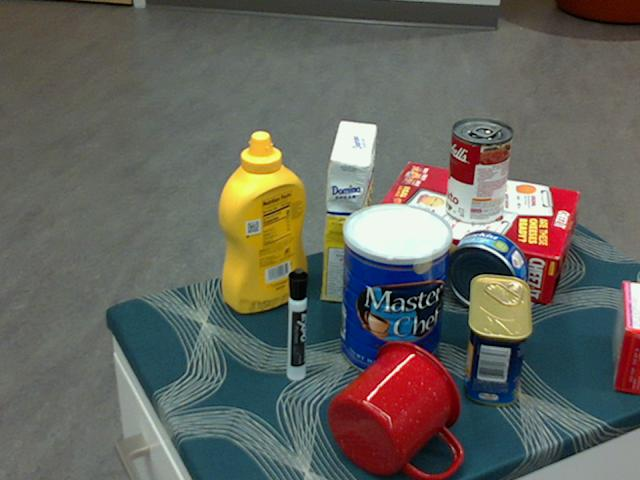cracker_box: (367, 164, 576, 301)
gelatin_box: (610, 282, 639, 395)
large_marker: (284, 267, 306, 382)
master_chef_can: (340, 203, 454, 380)
mug: (327, 340, 462, 479)
mustard_bottle: (217, 131, 307, 313)
potted_meat_can: (464, 275, 534, 406)
sugar_box: (320, 121, 377, 306)
tomato_soup_can: (446, 119, 513, 226)
tuna_fish_can: (445, 229, 529, 311)
